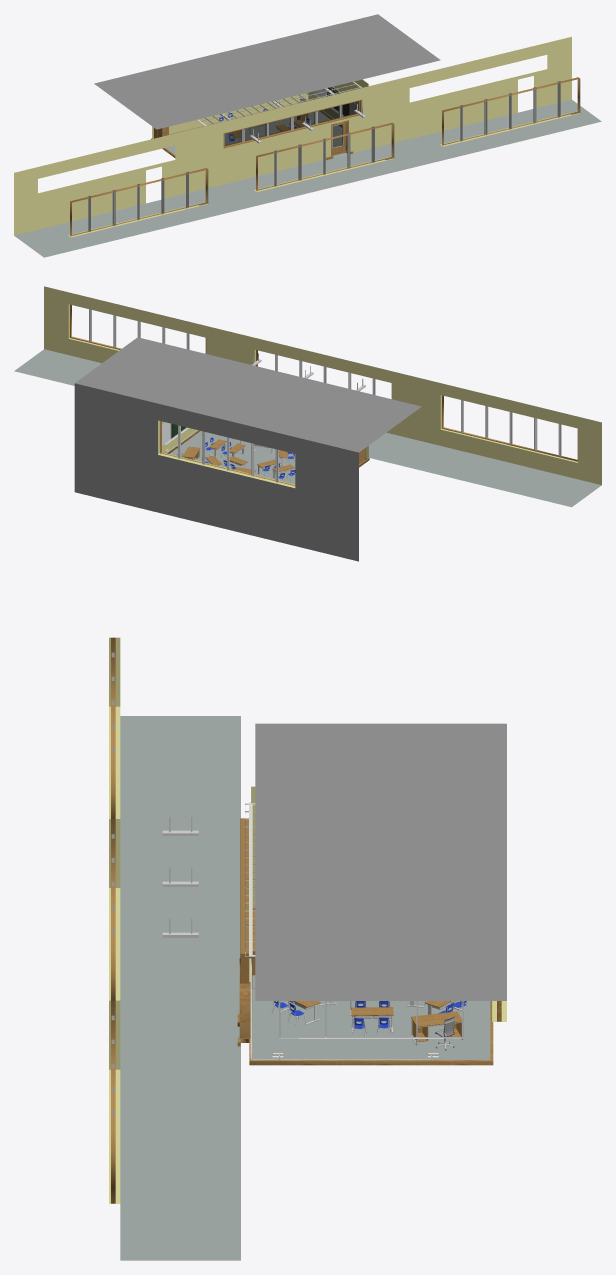
The model's file is classroom.glb.
The picture shows the model from 3 angles, top to bottom: view 1: azimuth 30°, elevation 25°; view 2: azimuth 150°, elevation 25°; view 3: azimuth 270°, elevation 25°; orthographic projection. The views are drawn at different scales.
Parts seen in each view (by area): view 1: Hallway, OuterWall, Classroom, HighWindow glass, HighWindow, ceiling, Door; view 2: OuterWall, Hallway, Classroom, LargeWindow frame, Desks_radial000, Desks_radial001; view 3: Hallway, OuterWall, Classroom, baseboard, HighWindow, Desks_radial001, TeachersDesk.
Boxes of the visible parts, x1,y1,x2,y2 form: Hallway: [14, 36, 601, 257]; OuterWall: [94, 14, 440, 129]; Classroom: [152, 79, 368, 157]; HighWindow glass: [224, 101, 358, 145]; HighWindow: [223, 99, 362, 148]; ceiling: [201, 83, 360, 125]; Door: [331, 120, 348, 156]; OuterWall: [74, 337, 421, 561]; Hallway: [14, 286, 601, 507]; Classroom: [158, 420, 368, 487]; LargeWindow frame: [178, 425, 278, 482]; Desks_radial000: [229, 443, 288, 476]; Desks_radial001: [205, 439, 294, 479]; Hallway: [109, 637, 240, 1260]; OuterWall: [255, 723, 506, 1000]; Classroom: [249, 786, 506, 1059]; baseboard: [237, 907, 493, 1065]; HighWindow: [240, 818, 249, 983]; Desks_radial001: [280, 1001, 463, 1032]; TeachersDesk: [411, 1011, 463, 1045].
Bounding box in the file's own units: 42.79 × 7.99 × 13.21.
Materials: 15 (2 with a texture image).
